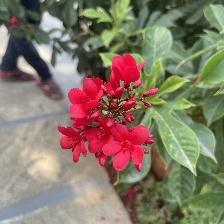jatropha: (103, 123, 151, 173), (70, 80, 105, 121)
